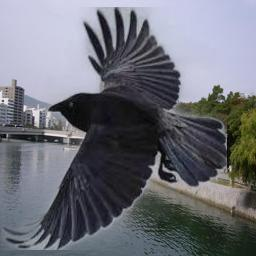Crow: (1, 7, 227, 250)
Sparrow: (96, 52, 218, 167)
